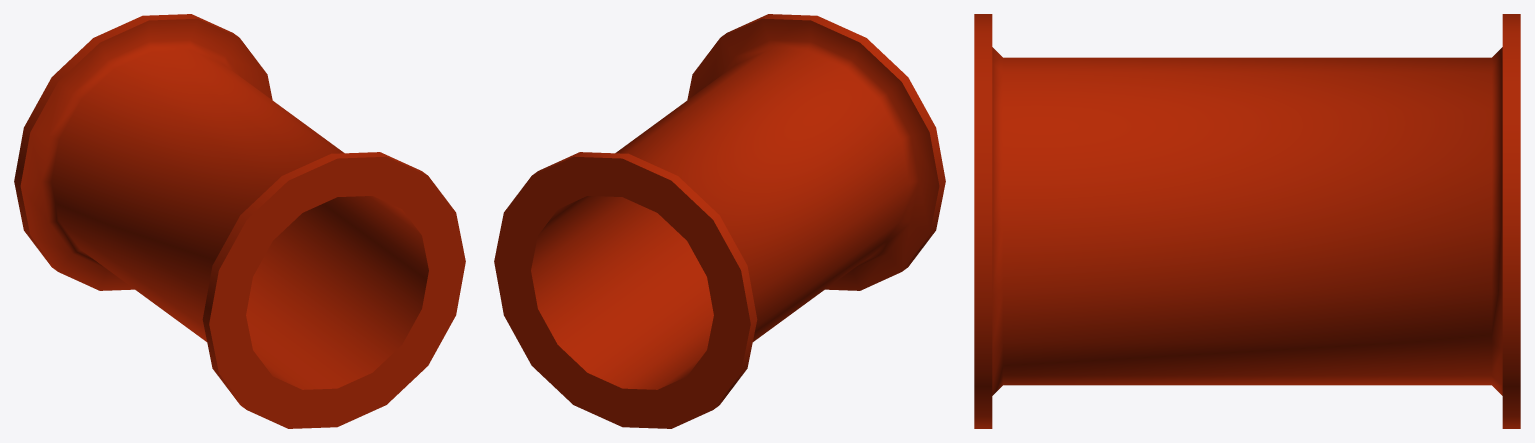
File: Pipe_03.FBX
3 renders of one model, left to right at view 1: azimuth 30°, elevation 25°; view 2: azimuth 150°, elevation 25°; view 3: azimuth 270°, elevation 25°, orthographic. The views are drawn at different scales.
Visible parts, largest first — view 1: Pipe_up1_003_Low; view 2: Pipe_up1_003_Low; view 3: Pipe_up1_003_Low.
Part boxes in pixels (box(x1,y1,x2,y2)): Pipe_up1_003_Low: box(14, 14, 465, 428); Pipe_up1_003_Low: box(494, 14, 945, 428); Pipe_up1_003_Low: box(974, 14, 1520, 428).
Size of the model in its own units: 38 by 38 by 50.
